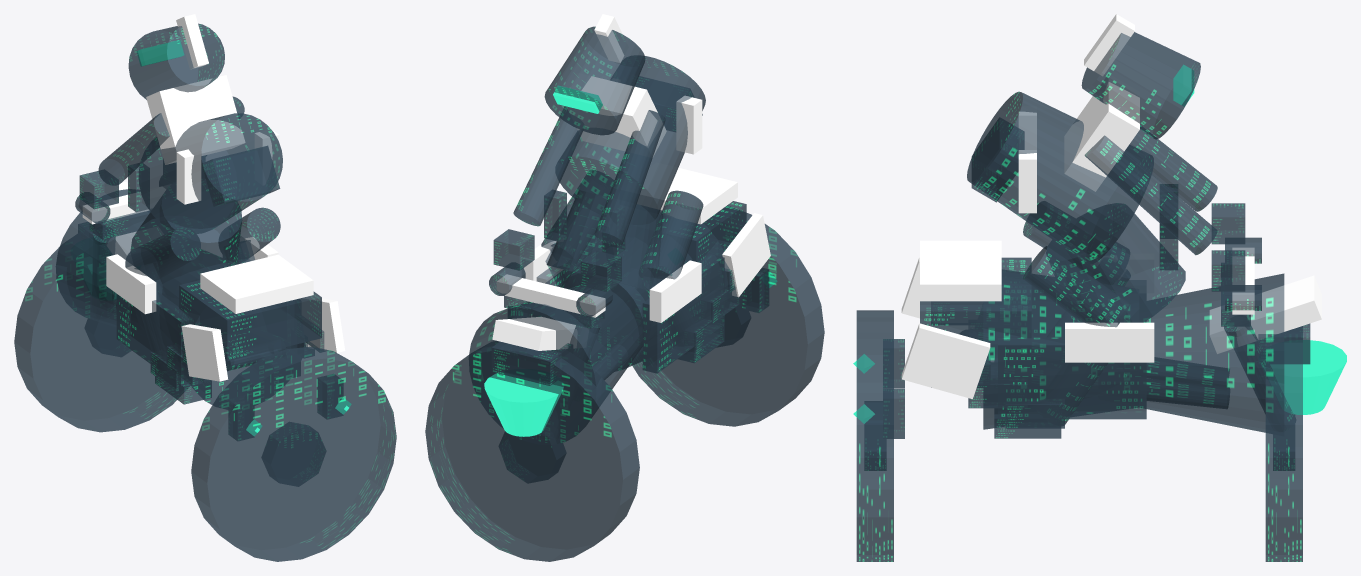
Rendered from veloce.glb.
3 renders of one model, left to right at view 1: azimuth 30°, elevation 25°; view 2: azimuth 150°, elevation 25°; view 3: azimuth 270°, elevation 25°, orthographic. The views are drawn at different scales.
Parts seen in each view (by area): view 1: guerrier; view 2: guerrier; view 3: guerrier.
Part boxes in pixels (x1,y1,x2,y2): guerrier: [14, 14, 396, 561]; guerrier: [425, 14, 824, 561]; guerrier: [853, 14, 1346, 561].
Size of the model in its own units: 0.68 by 1.58 by 1.33.
